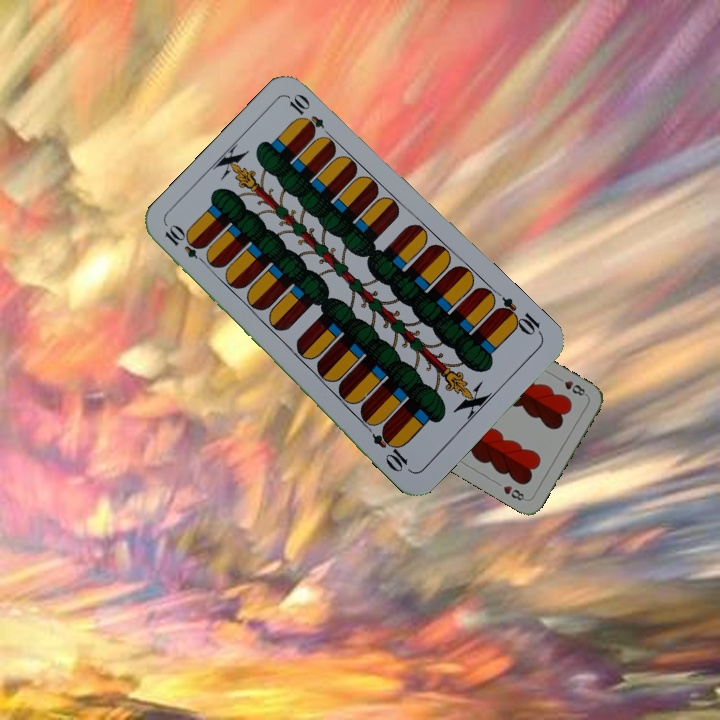E10: (160, 221, 211, 269), (492, 293, 545, 339)
H8: (553, 373, 590, 399)
